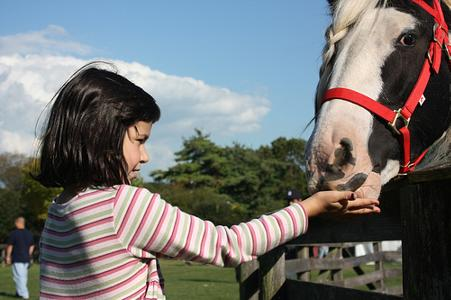person: (36, 68, 380, 300)
